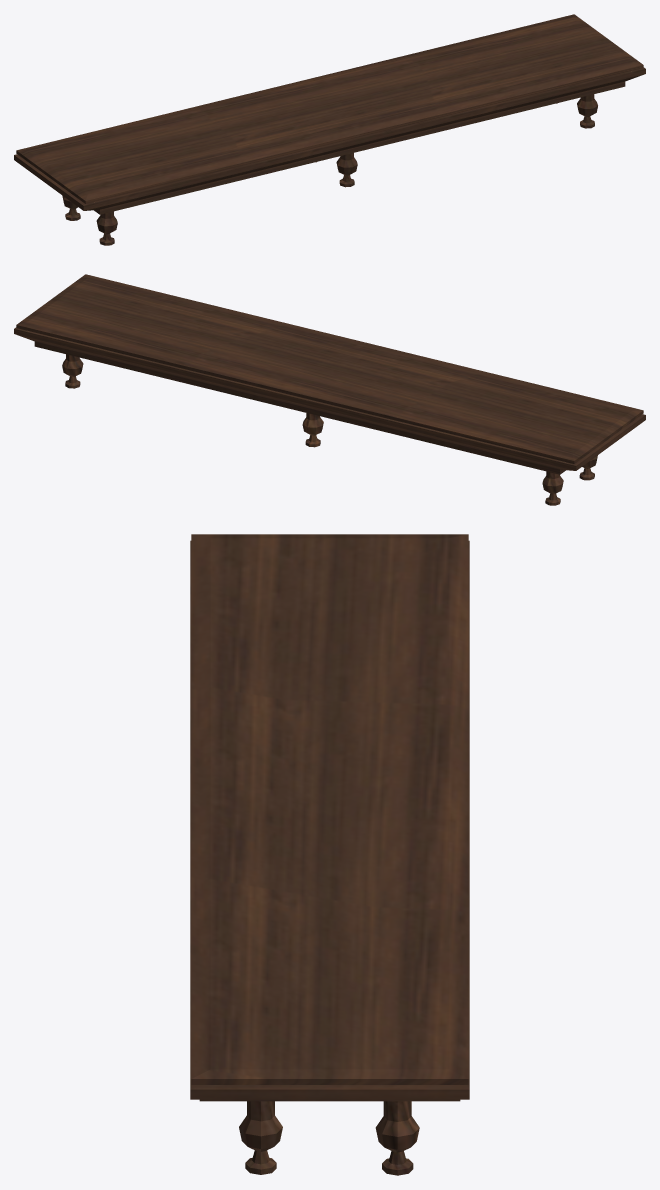
File: Long Table.fbx
3 views of the same model, one above another, from view 1: azimuth 30°, elevation 25°; view 2: azimuth 150°, elevation 25°; view 3: azimuth 270°, elevation 25° (orthographic). The views are drawn at different scales.
Visible parts, largest first — view 1: Cube.019; view 2: Cube.019; view 3: Cube.019.
Boxes of the visible parts, x1,y1,x2,y2 form: Cube.019: (14, 14, 645, 245); Cube.019: (14, 274, 645, 505); Cube.019: (190, 534, 469, 1175).
Bounding box in the file's own units: 1015 × 113 × 218.
1 material, 1 textured.
